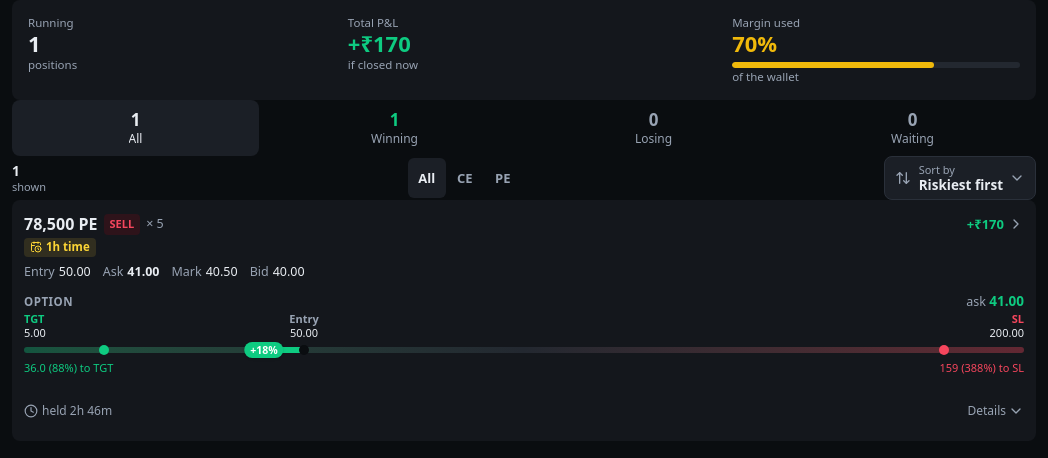
Test: PositionsScreen › nothing of a kind: says so, with a way back to all
This screenshot has width=1048, height=458.
Click the button "1 Winning": click(394, 128) [271, 100, 518, 156]
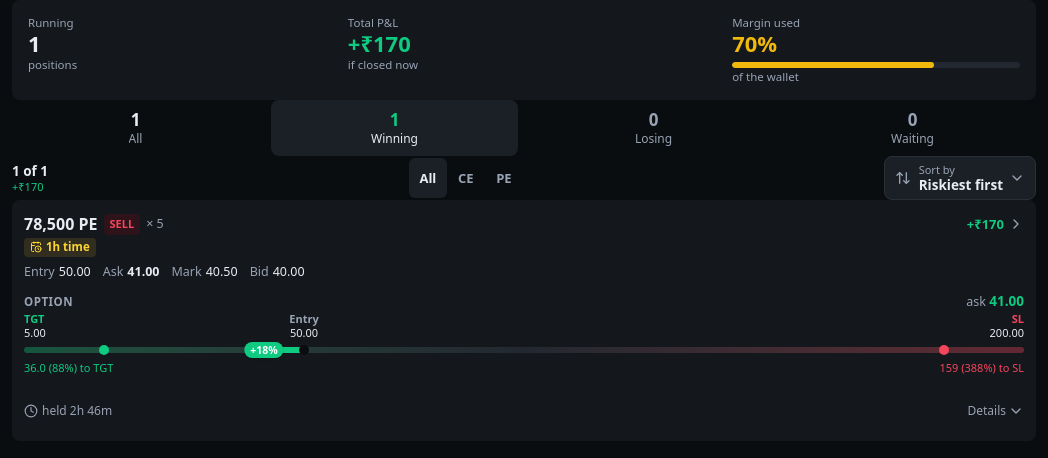
Click the button "0 Losing": click(654, 128) [530, 100, 777, 156]
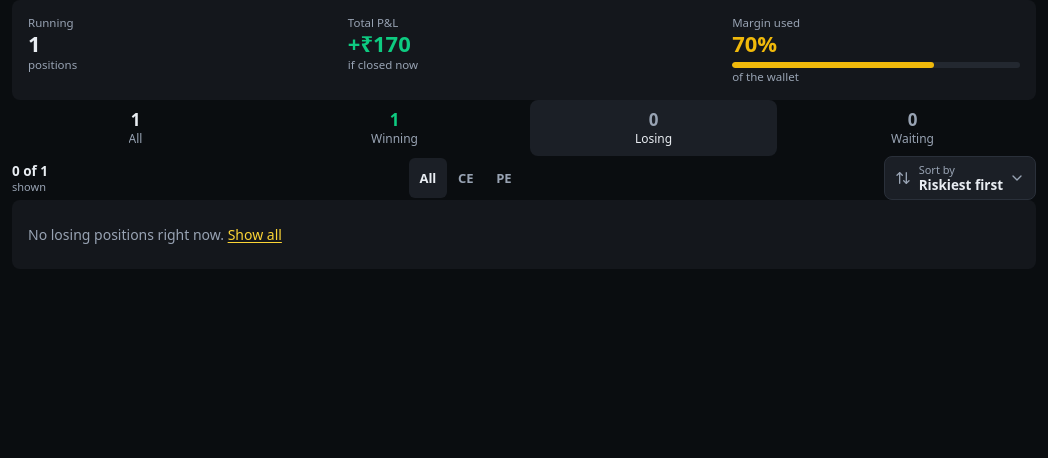
Check: the text "No losing positions right now. Show all" is shown, box [28, 224, 282, 245]
Click the button "Show all": click(255, 235) [228, 224, 282, 245]
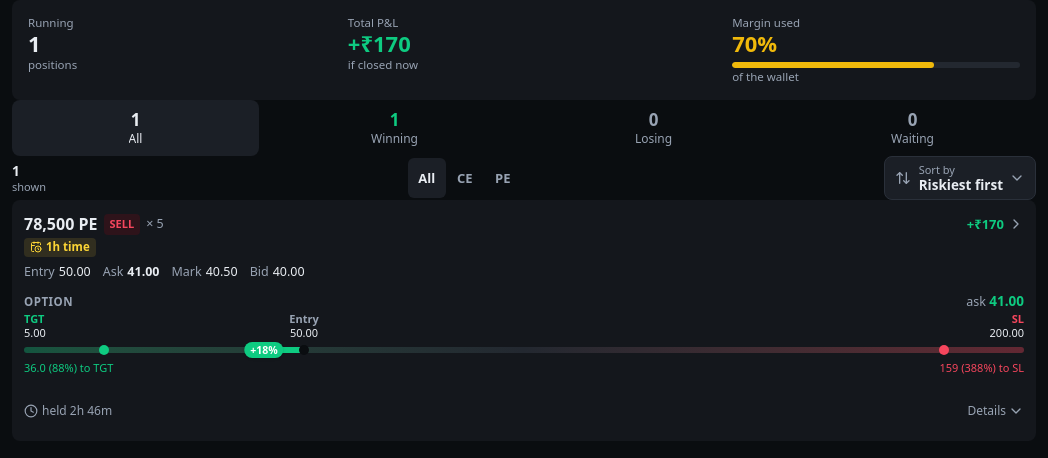
Check: the number of buttons named "what happened" is 1, box [24, 202, 1024, 246]
